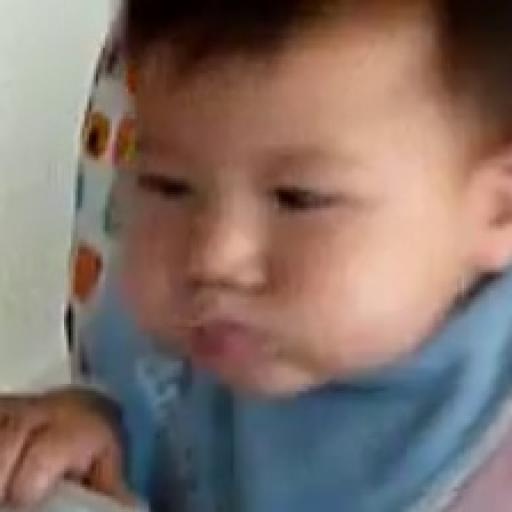Autism: (77, 8, 512, 476)
